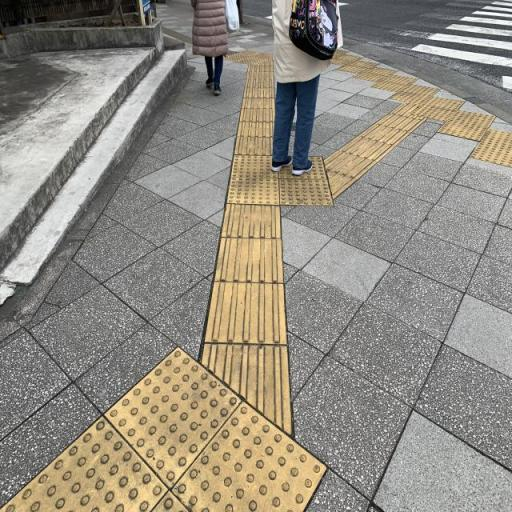dot: (102, 348, 242, 487), (169, 402, 329, 511), (226, 176, 280, 204), (280, 179, 335, 206)
line: (200, 343, 292, 438), (205, 283, 287, 344), (214, 238, 286, 283), (220, 205, 282, 239)
